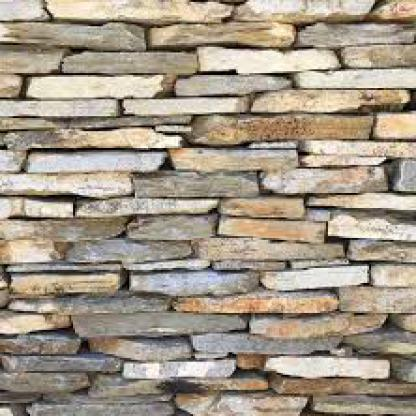Metamorphic_Quartize: (60, 234, 197, 270), (66, 311, 251, 337), (26, 144, 165, 178), (30, 71, 161, 107), (197, 43, 343, 75), (255, 257, 371, 296), (262, 350, 395, 380), (120, 352, 238, 382), (214, 192, 307, 218)
